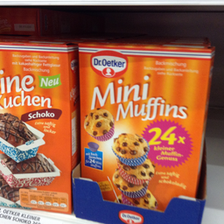cake: (79, 40, 216, 217), (1, 40, 78, 213)
